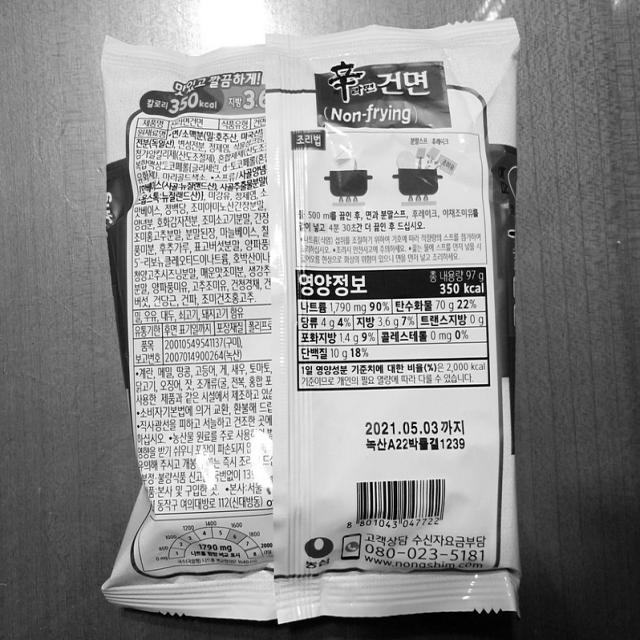Nutrition Label: (292, 264, 492, 389)
